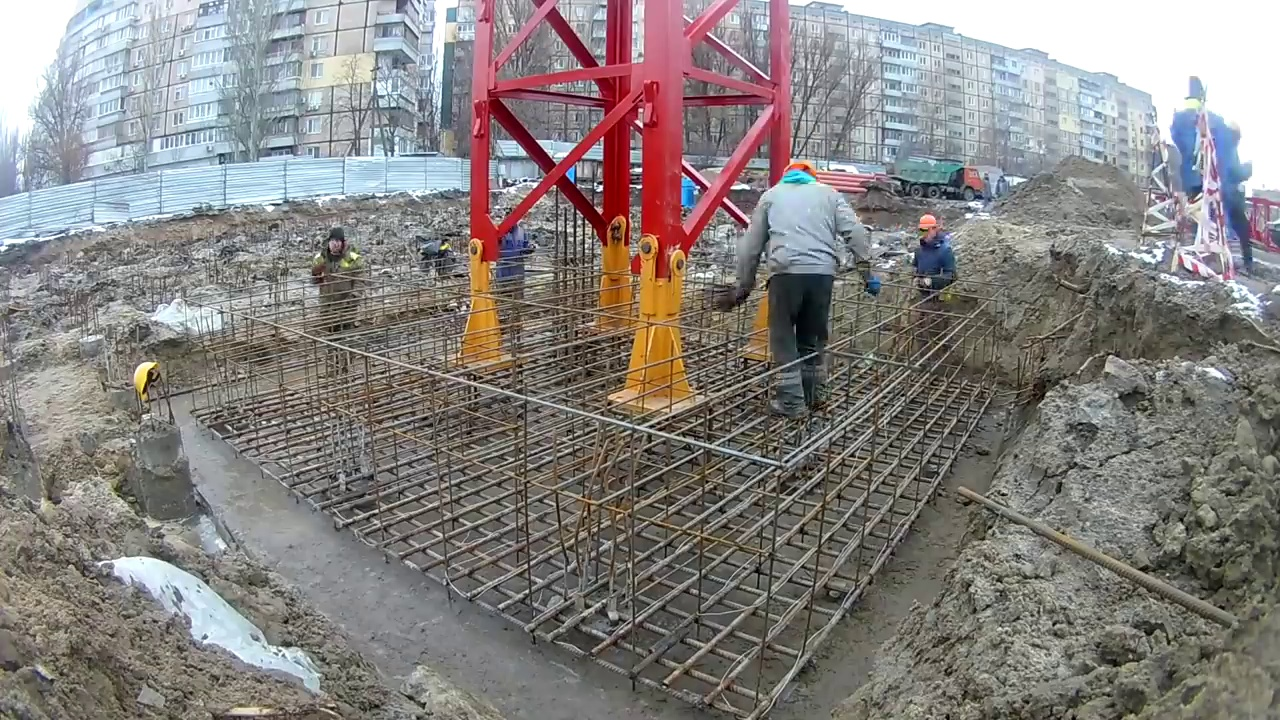helmet: (131, 363, 161, 401), (781, 159, 817, 178), (918, 215, 937, 229)
helmet-off: (324, 231, 352, 263)
helmet-on: (781, 161, 818, 191), (919, 210, 940, 246)
person: (713, 158, 876, 413), (315, 230, 364, 336), (910, 216, 960, 301), (493, 208, 533, 297)
